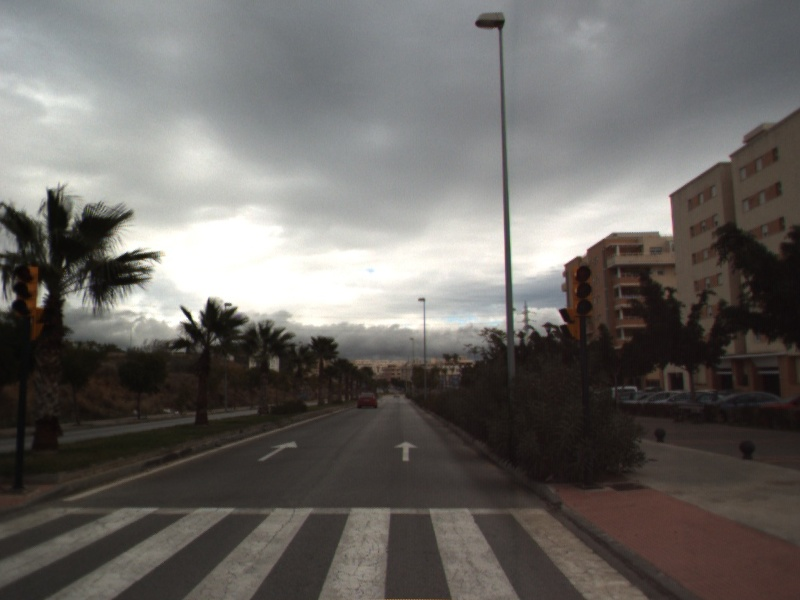STRAIGHT: (256, 439, 299, 463), (392, 439, 420, 463)
